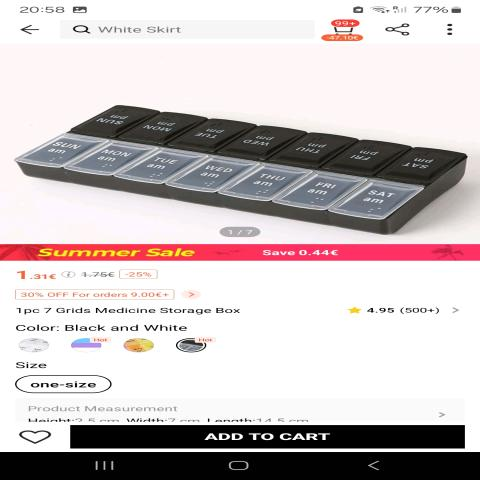Pill-box: (9, 62, 452, 239)
